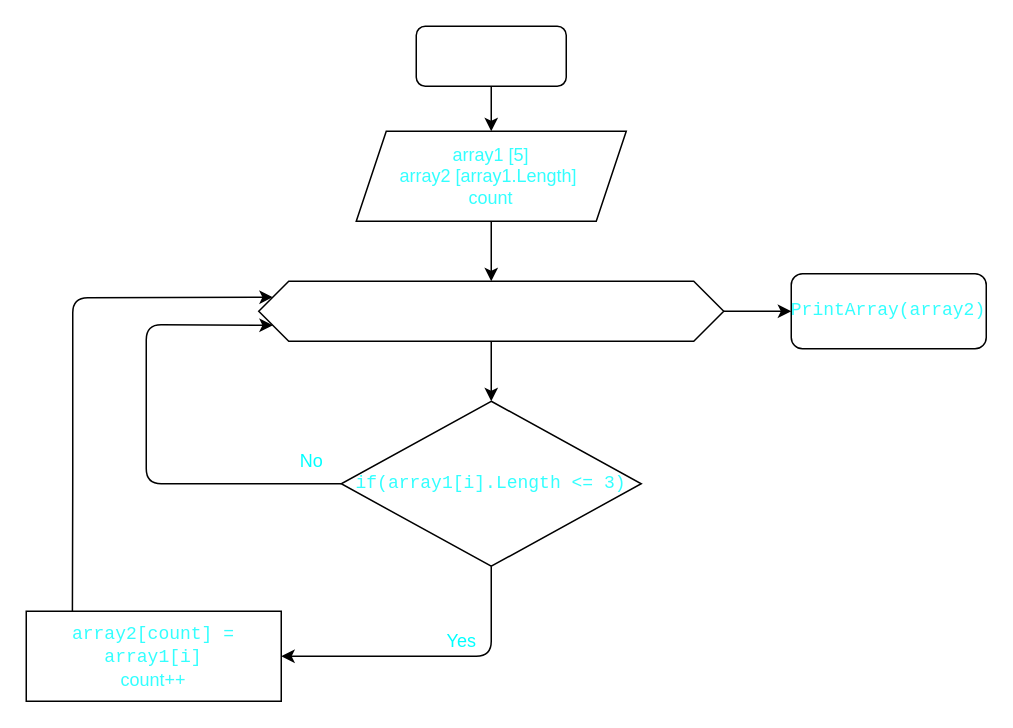
Some shapes in this 1013 by 728 pixel diagram are drawn without their labels. The shapes that lost their labels are listed below. From the top down, each one's centre as x and y in pixels, then its label:
At [490,55]: "START".
At [490,310]: "for (int i = 0; i < array1.Length; i++)".
